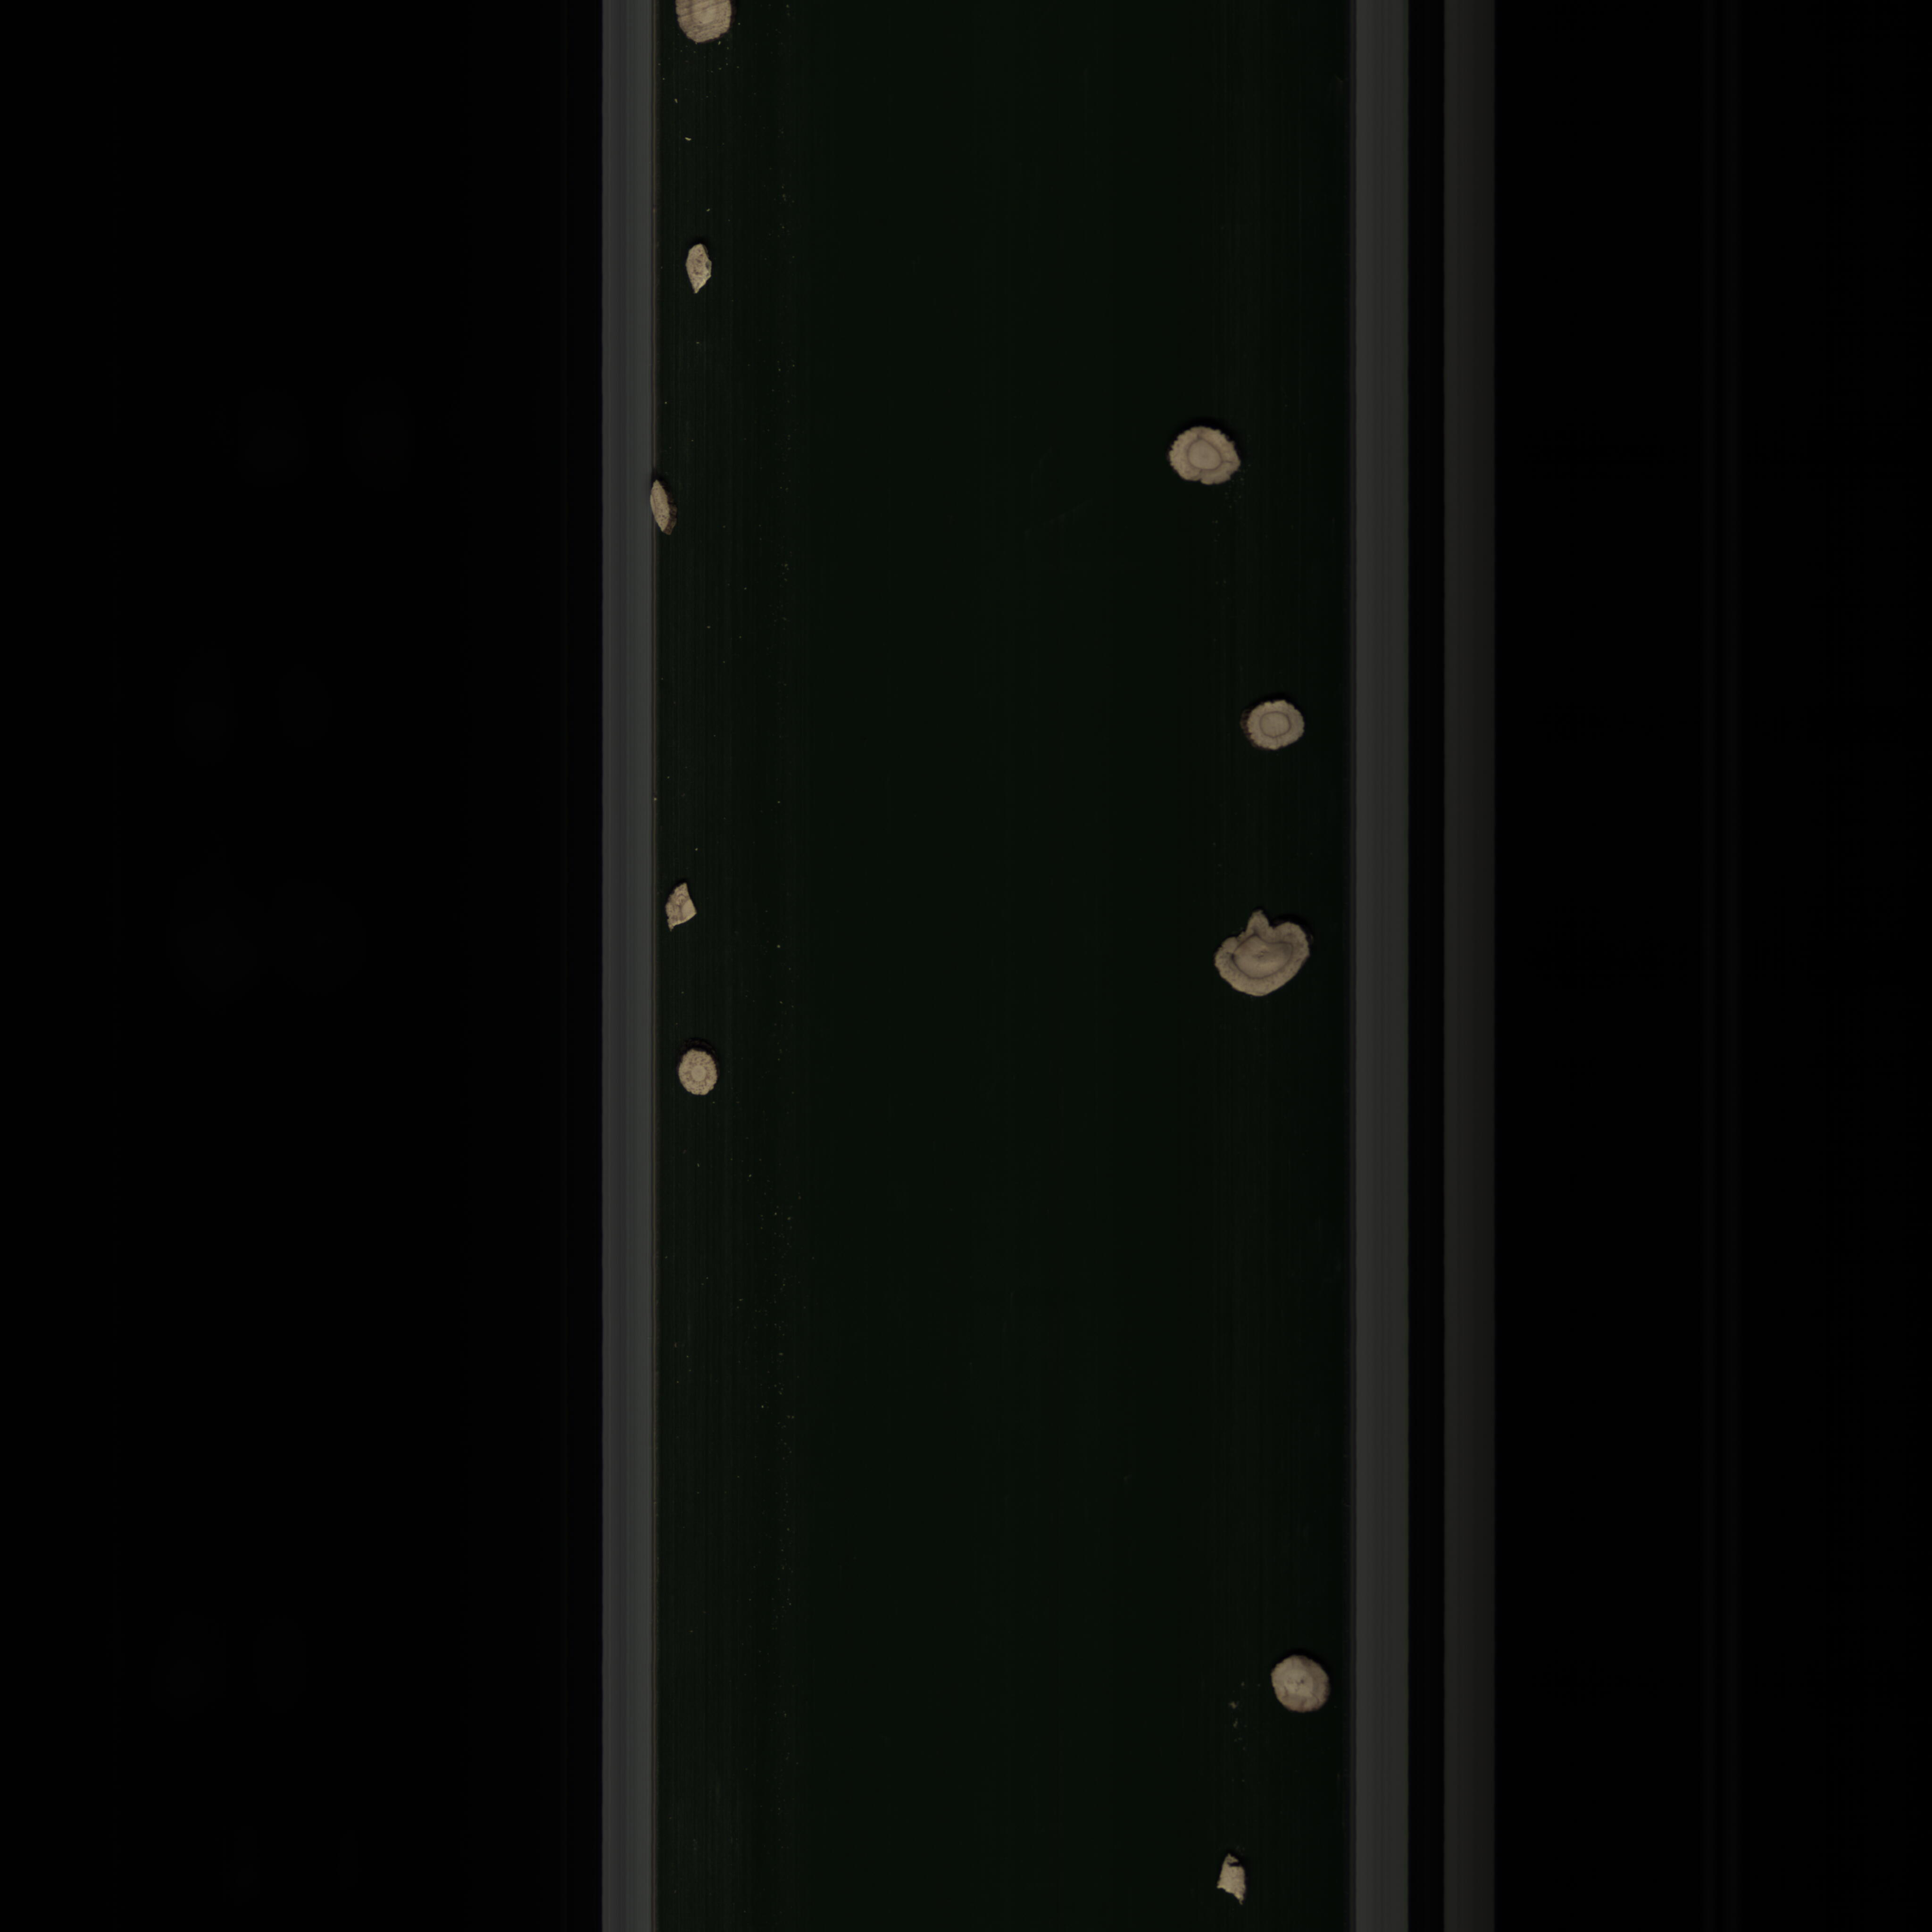debris: (642, 474, 686, 545), (1207, 1849, 1253, 1909), (683, 239, 722, 304), (656, 876, 701, 932)
moldy: (1210, 906, 1325, 1012)
